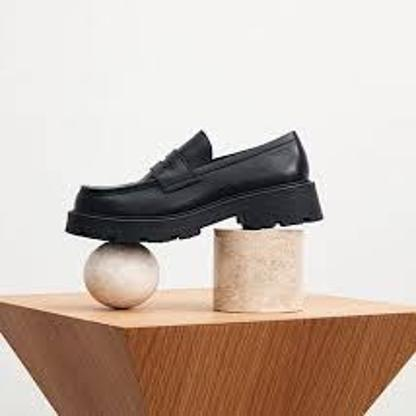not trash: (67, 124, 324, 244)
